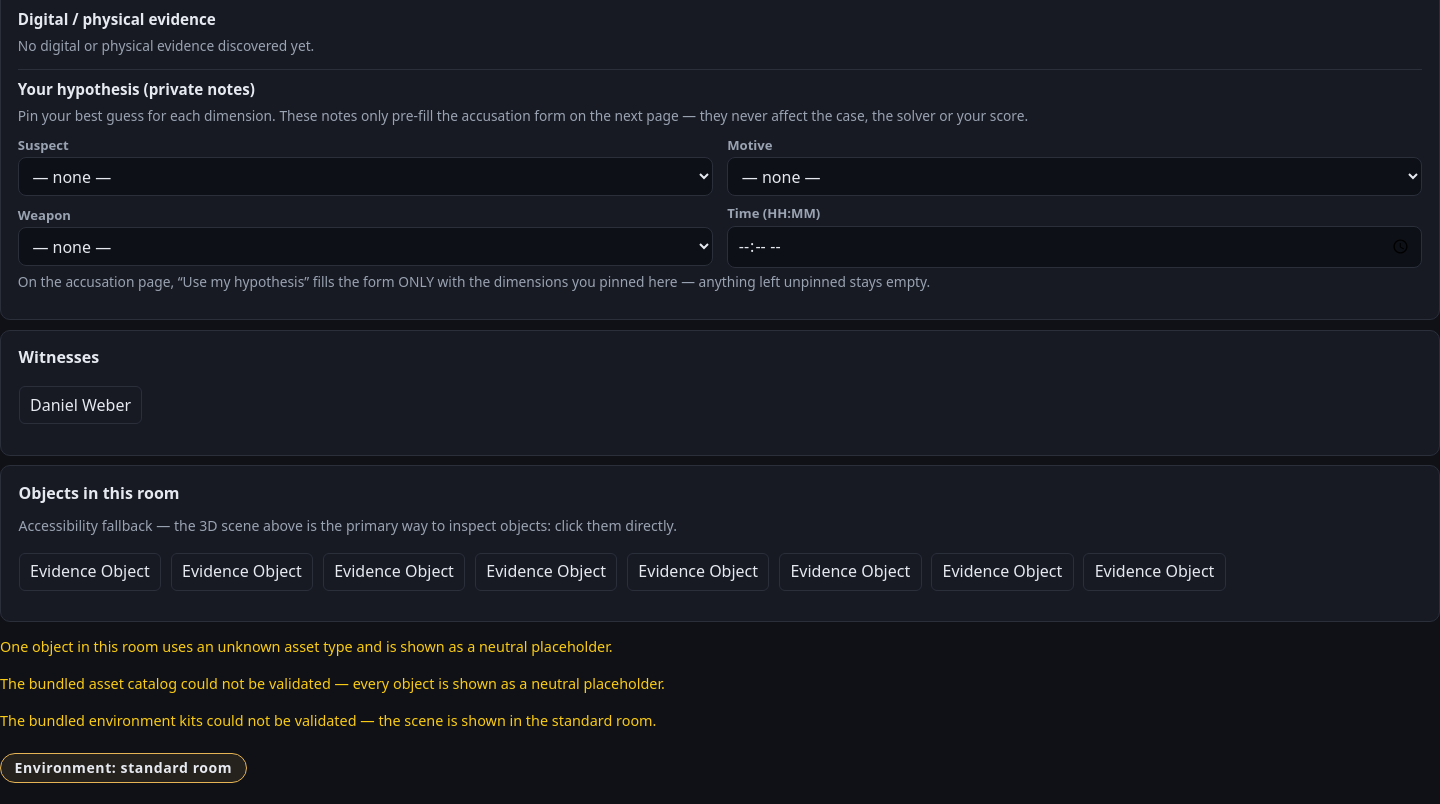
Test: Phase 39 — same-replay witness progress is preserved and idempotent › all six questions are OFFERED; OBSERVATION grounds the saved statement, TIME answers neutral (§4/§25)
(page scrolled)
Click the button with test id "witness-daniel_weber".
click(80, 405)  # box [19,386,142,424]
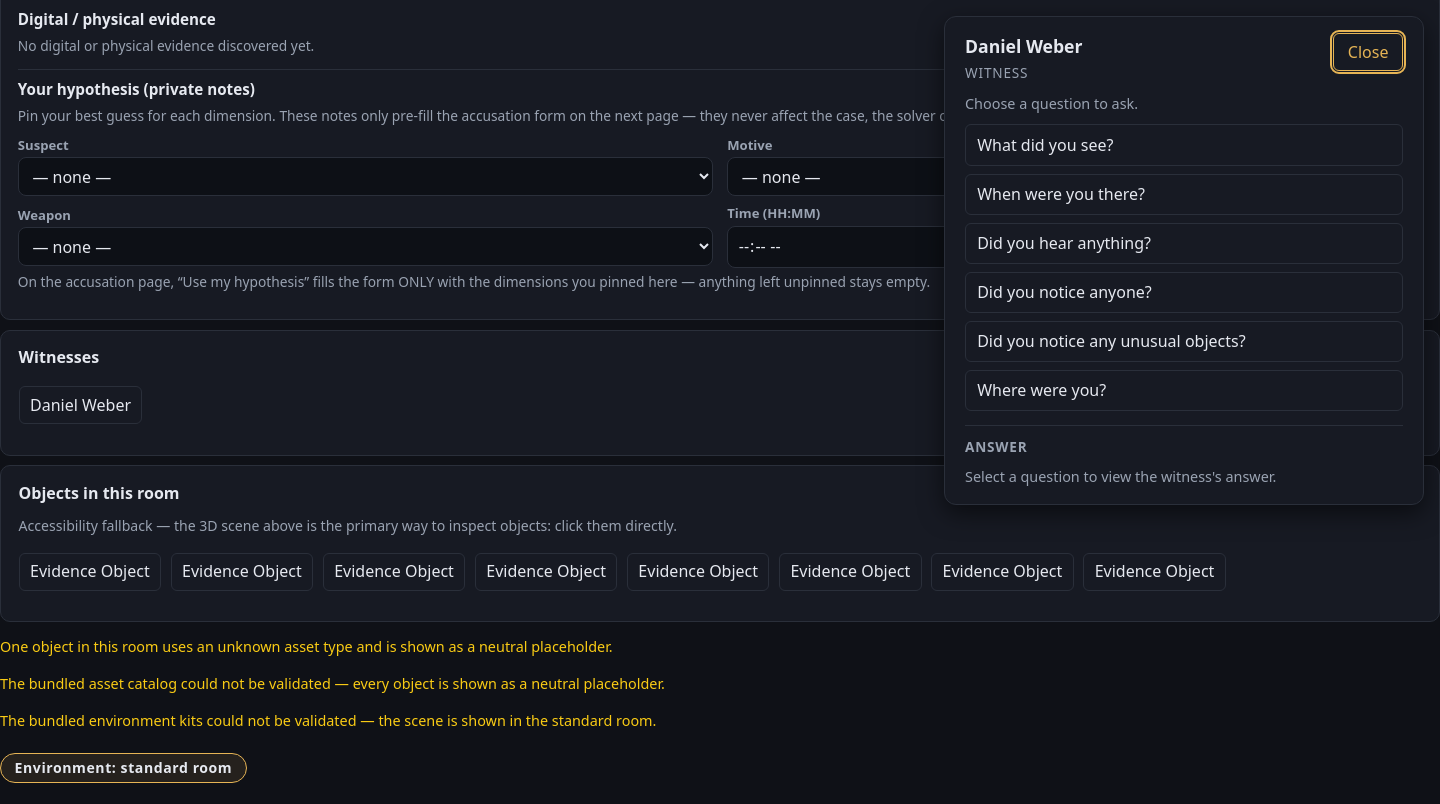
Result: the button with test id "witness-question-OBSERVATION" is shown
Result: the button with test id "witness-question-TIME" is shown at [965,174,1403,215]
Result: the button with test id "witness-question-LOCATION" is shown at [965,370,1403,412]
Click the button with test id "witness-question-OBSERVATION".
click(1045, 145)  # box [965,124,1403,166]
(page scrolled)
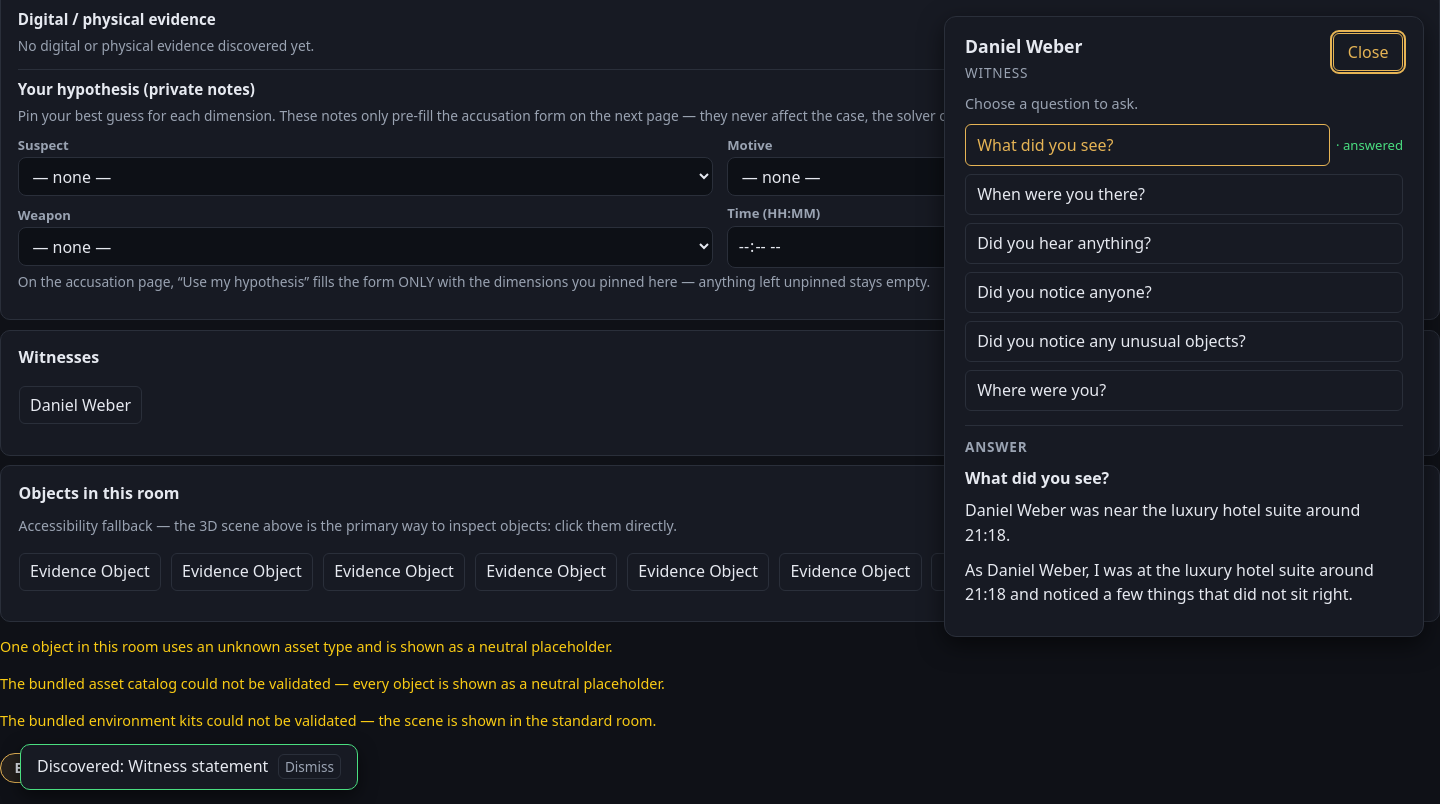
Result: the text with test id "witness-statement-summary" shows "Daniel Weber was near the luxury hotel suite" at [965,499,1360,546]
Click the button with test id "witness-question-TIME".
click(1061, 194)  # box [965,174,1403,215]
(page scrolled)
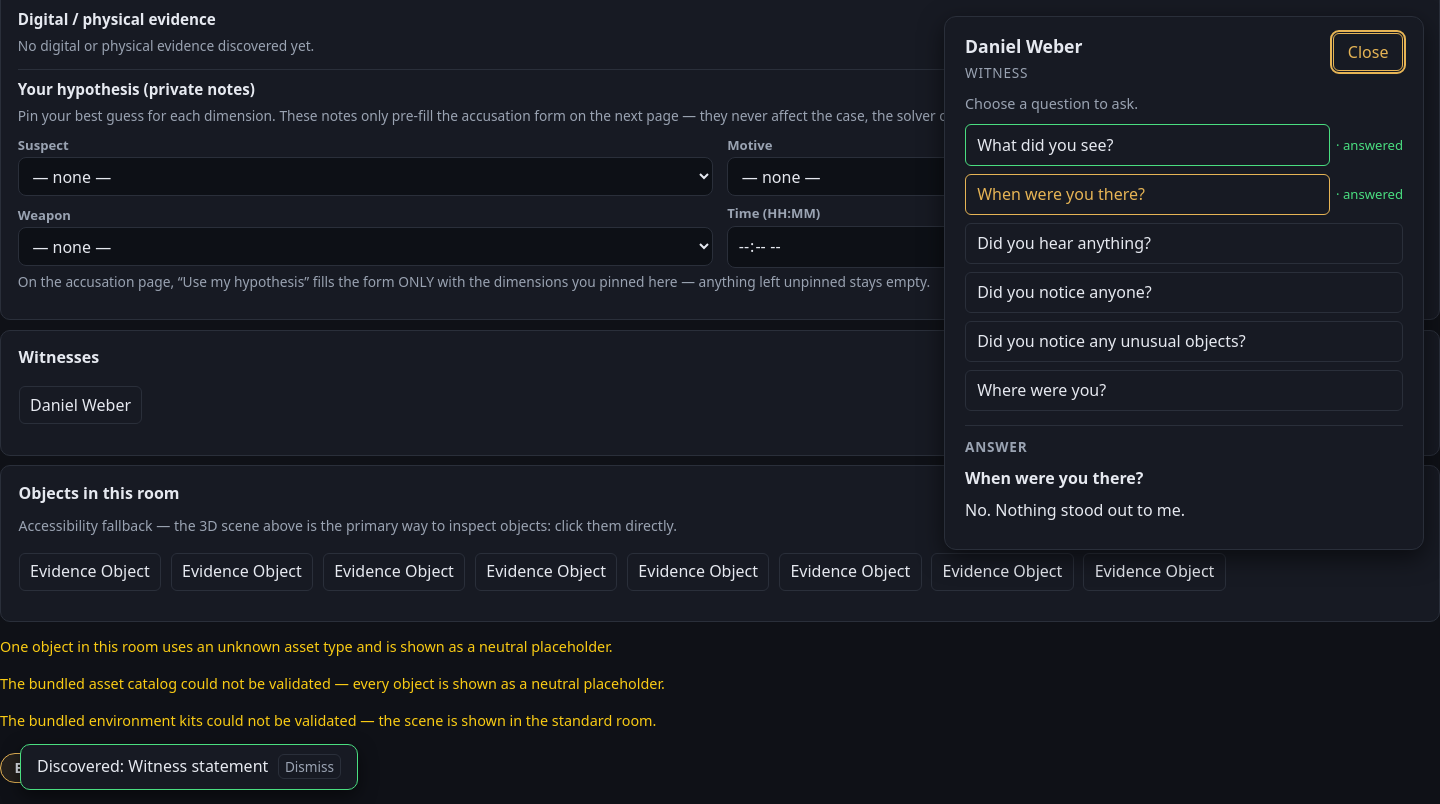
Result: the text with test id "witness-statement-summary" reads "No. Nothing stood out to me." at [965,499,1185,521]
